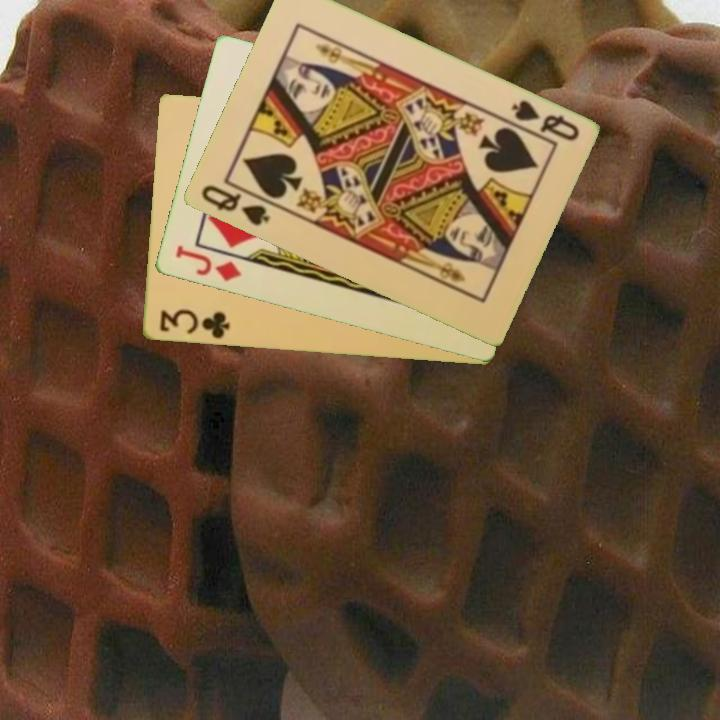3c: (155, 306, 232, 342)
Jd: (171, 242, 244, 285)
Qs: (502, 96, 582, 146), (197, 181, 273, 229)
